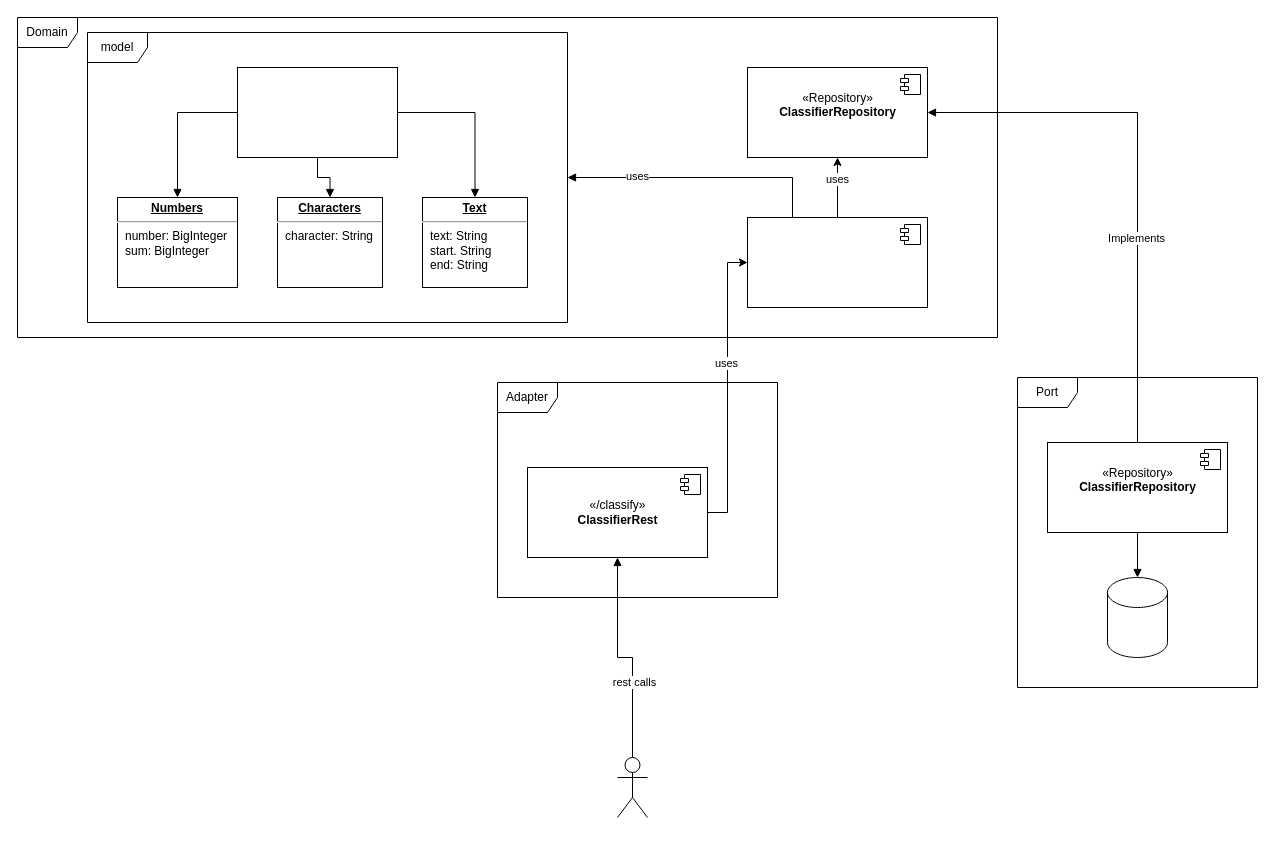
The diagram is 1275 pixels wide and 856 high, and some of its shapes have lost their labels. Each missing label, with the centre of its shape:
"Classification numbers: Numbers characters: Characters text: Text" belongs at [317,112].
"Client" belongs at [632,787].
"Sqlite" belongs at [1137,617].
"«Usecase» InputClassifier" belongs at [837,262].
